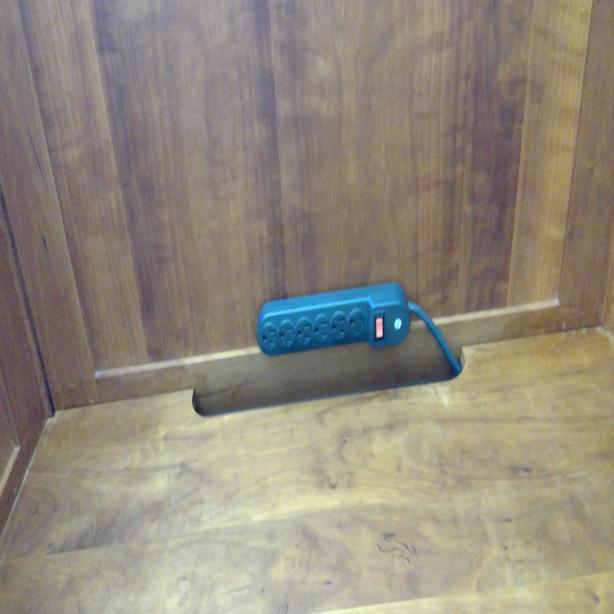typeb: (348, 308, 366, 336), (296, 318, 314, 346), (278, 322, 296, 348), (260, 324, 277, 351), (330, 314, 348, 338), (315, 314, 330, 342)
